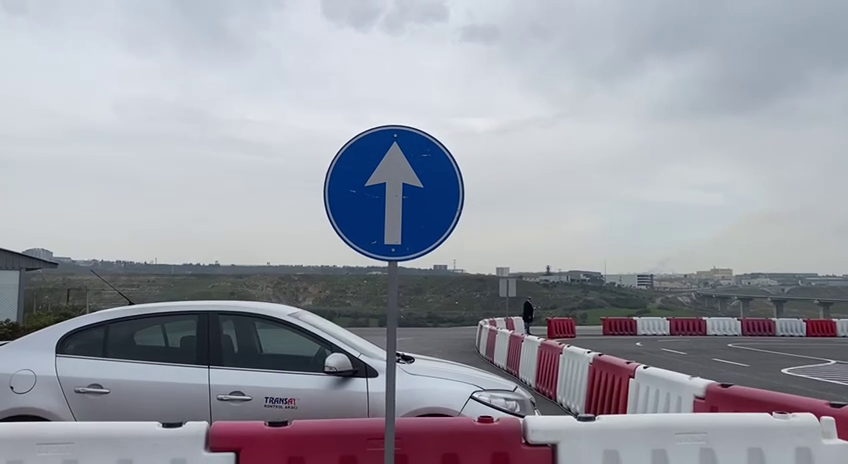forward: (318, 119, 468, 266)
